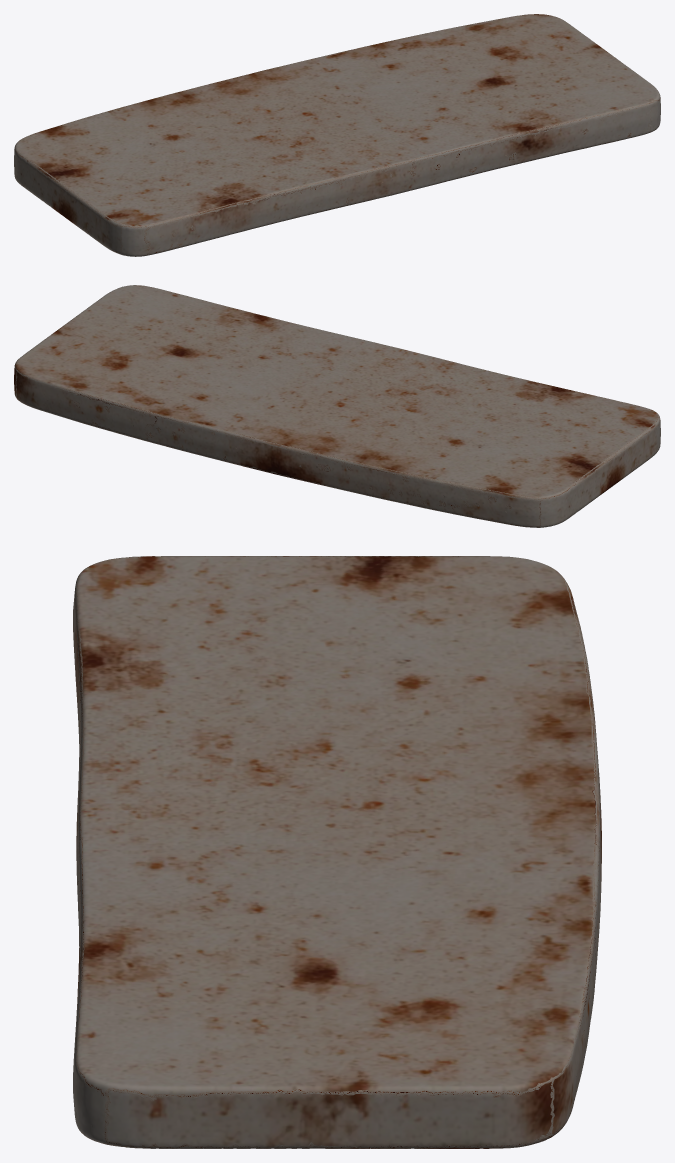
3 renders of one model, top to bottom at view 1: azimuth 30°, elevation 25°; view 2: azimuth 150°, elevation 25°; view 3: azimuth 270°, elevation 25°, orthographic. The views are drawn at different scales.
Bounding box in the file's own units: 1.9 × 0.1034 × 0.7953.
1 material, 1 textured.
